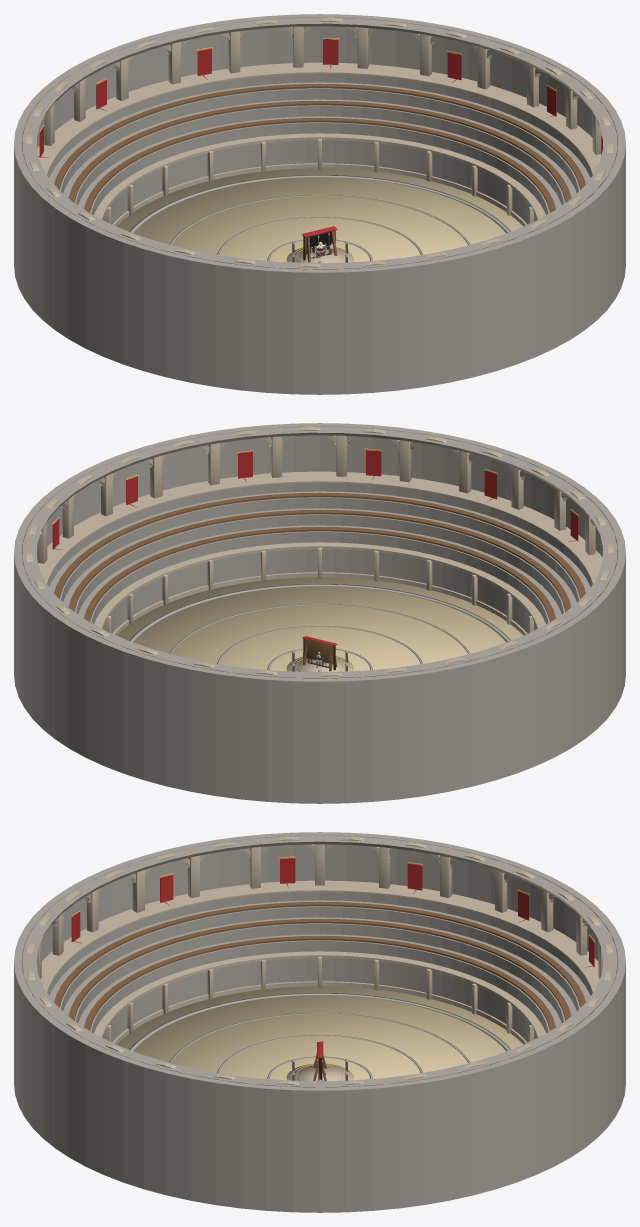
File: Stage.glb
3 renders of one model, top to bottom at view 1: azimuth 30°, elevation 25°; view 2: azimuth 150°, elevation 25°; view 3: azimuth 270°, elevation 25°, orthographic.
Parts seen in each view (by area): view 1: StageArena__Stone_1, StageArena__Stone_S1, StageArena__Sand_S1, StageArena__StoneWarm_1, StageArena__Wood_1, StageArena__Red_1, StageDais__StoneWarm_S1; view 2: StageArena__Stone_1, StageArena__Stone_S1, StageArena__Sand_S1, StageArena__StoneWarm_1, StageArena__Wood_1, StageArena__Red_1, StageDais__StoneWarm_S1; view 3: StageArena__Stone_1, StageArena__Stone_S1, StageArena__Sand_S1, StageArena__StoneWarm_1, StageArena__Wood_1, StageArena__Red_1, StageDais__StoneWarm_S1.
Boxes of the visible parts, bbox=[...] form: StageArena__Stone_1: bbox=[14, 14, 625, 394]; StageArena__Stone_S1: bbox=[49, 82, 590, 224]; StageArena__Sand_S1: bbox=[117, 168, 522, 262]; StageArena__StoneWarm_1: bbox=[25, 18, 613, 267]; StageArena__Wood_1: bbox=[54, 83, 585, 212]; StageArena__Red_1: bbox=[38, 39, 602, 166]; StageDais__StoneWarm_S1: bbox=[287, 247, 352, 262]; StageArena__Stone_1: bbox=[14, 423, 625, 803]; StageArena__Stone_S1: bbox=[49, 491, 590, 633]; StageArena__Sand_S1: bbox=[117, 577, 522, 671]; StageArena__StoneWarm_1: bbox=[26, 427, 614, 676]; StageArena__Wood_1: bbox=[54, 492, 585, 621]; StageArena__Red_1: bbox=[52, 450, 578, 549]; StageDais__StoneWarm_S1: bbox=[287, 656, 352, 671]; StageArena__Stone_1: bbox=[14, 832, 625, 1212]; StageArena__Stone_S1: bbox=[49, 900, 590, 1042]; StageArena__Sand_S1: bbox=[117, 986, 522, 1080]; StageArena__StoneWarm_1: bbox=[25, 837, 614, 1085]; StageArena__Wood_1: bbox=[54, 901, 585, 1030]; StageArena__Red_1: bbox=[71, 857, 595, 967]; StageDais__StoneWarm_S1: bbox=[287, 1063, 352, 1080].
Bounding box in the file's own units: 238 × 59.43 × 238.
